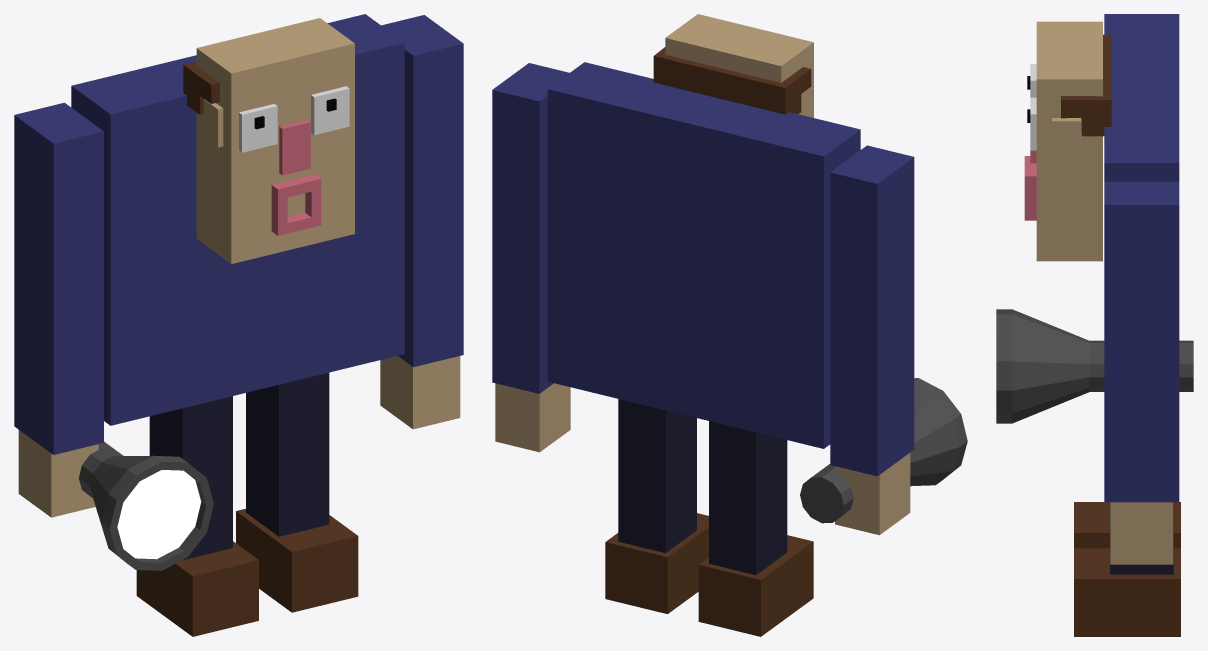
The model's file is Man.glb.
3 views of the same model, side by side, from view 1: azimuth 30°, elevation 25°; view 2: azimuth 150°, elevation 25°; view 3: azimuth 270°, elevation 25° (orthographic). The views are drawn at different scales.
Parts seen in each view (by area): view 1: Cube.001, Cube.003, Cube, Cube.002, Cube.004, Cylinder, Cube.009, Cube.008, Cube.005, Cube.007, Cube.006, Cube.018 (+5 smaller); view 2: Cube.001, Cube.003, Cube.002, Cube.004, Cube.005, Cube.008, Cylinder, Cube, Cube.009, Cube.015, Cube.007, Cube.006; view 3: Cube.002, Cube, Cube.001, Cylinder, Cube.009, Cube.007, Cube.015, Cube.008, Cube.016, Cube.003, Cube.004, Cube.018 (+1 smaller).
Boxes of the visible parts, <box> form: Cube.001: <box>71,14,404,425</box>; Cube.003: <box>14,102,103,454</box>; Cube: <box>196,18,354,263</box>; Cube.002: <box>381,15,463,367</box>; Cube.004: <box>246,372,329,536</box>; Cylinder: <box>78,441,213,570</box>; Cube.009: <box>236,508,358,612</box>; Cube.008: <box>136,541,258,636</box>; Cube.005: <box>149,396,232,559</box>; Cube.007: <box>380,356,460,429</box>; Cube.006: <box>18,430,98,517</box>; Cube.018: <box>271,174,321,235</box>; Cube.001: <box>547,62,860,448</box>; Cube.003: <box>830,145,914,476</box>; Cube.002: <box>492,63,569,393</box>; Cube.004: <box>618,399,696,552</box>; Cube.005: <box>709,421,787,574</box>; Cube.008: <box>698,535,813,636</box>; Cylinder: <box>800,378,967,523</box>; Cube: <box>665,14,813,117</box>; Cube.009: <box>605,513,708,613</box>; Cube.015: <box>653,47,811,114</box>; Cube.007: <box>495,383,570,452</box>; Cube.006: <box>835,453,910,535</box>; Cube.002: <box>1104,181,1179,502</box>; Cube: <box>1036,21,1102,261</box>; Cube.001: <box>1104,26,1179,181</box>; Cylinder: <box>996,309,1193,423</box>; Cube.009: <box>1074,548,1180,636</box>; Cube.007: <box>1110,502,1173,564</box>; Cube.015: <box>1061,34,1111,136</box>; Cube.008: <box>1074,502,1180,548</box>; Cube.016: <box>1052,118,1080,157</box>; Cube.003: <box>1104,14,1179,25</box>; Cube.004: <box>1110,502,1173,574</box>; Cube.018: <box>1024,156,1036,220</box>.
Size of the model in its own units: 3.32 by 4.43 by 1.45.
